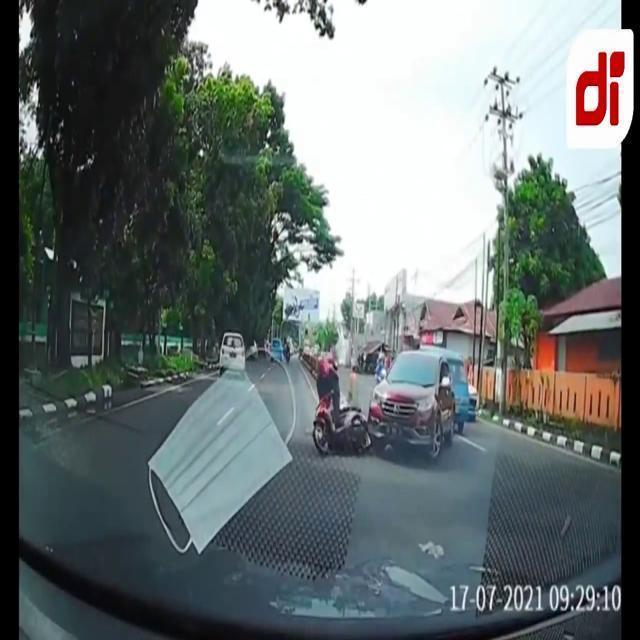accident: (310, 349, 460, 463)
non-accident: (216, 331, 286, 383)
